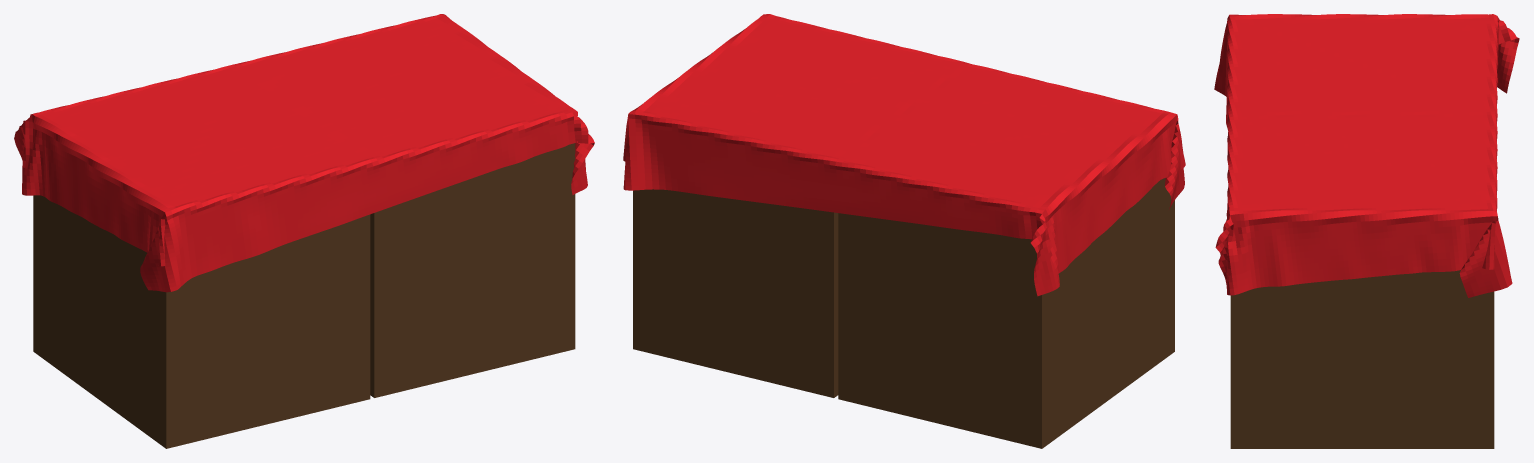
Rendered from Box_Table.fbx.
3 renders of one model, left to right at view 1: azimuth 30°, elevation 25°; view 2: azimuth 150°, elevation 25°; view 3: azimuth 270°, elevation 25°, orthographic.
Visible parts, largest first — view 1: Box Table; view 2: Box Table; view 3: Box Table.
Boxes of the visible parts, x1,y1,x2,y2 form: Box Table: (14, 14, 594, 448); Box Table: (623, 14, 1185, 448); Box Table: (1214, 14, 1519, 448).
Size of the model in its own units: 809 by 424 by 495.
